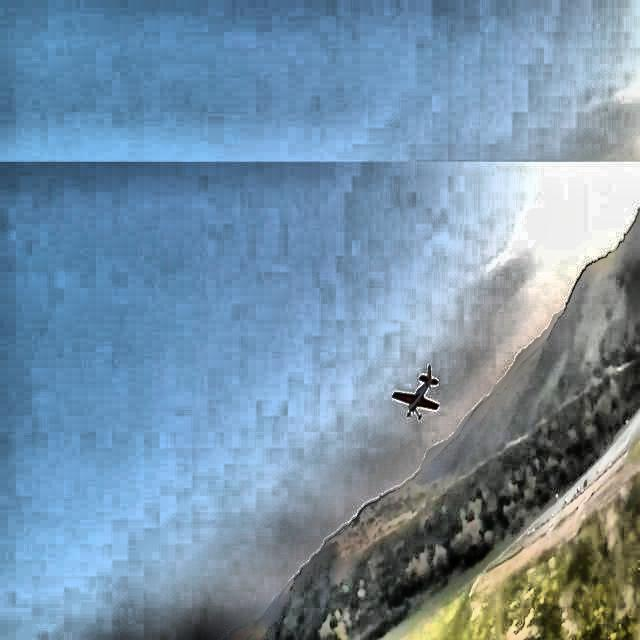iha: (388, 385, 447, 389)
